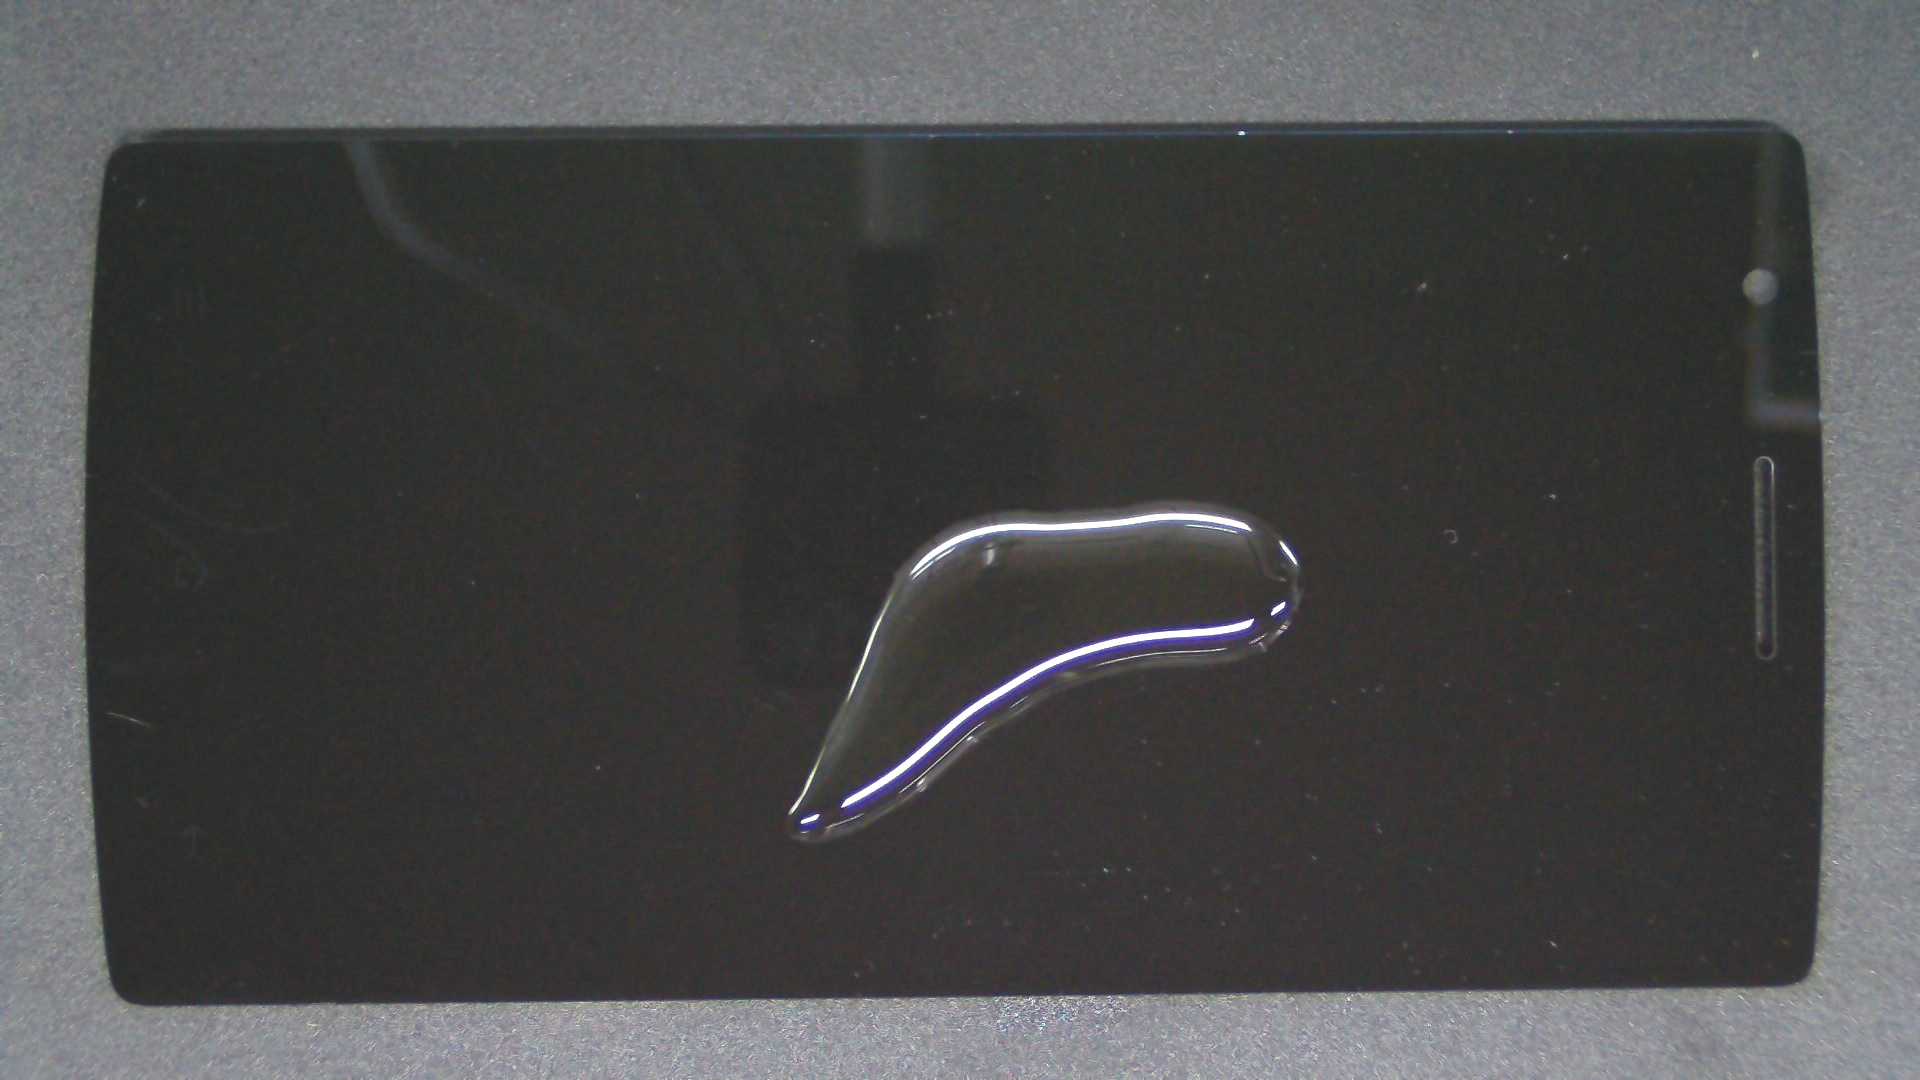oil: (585, 249, 1753, 749)
